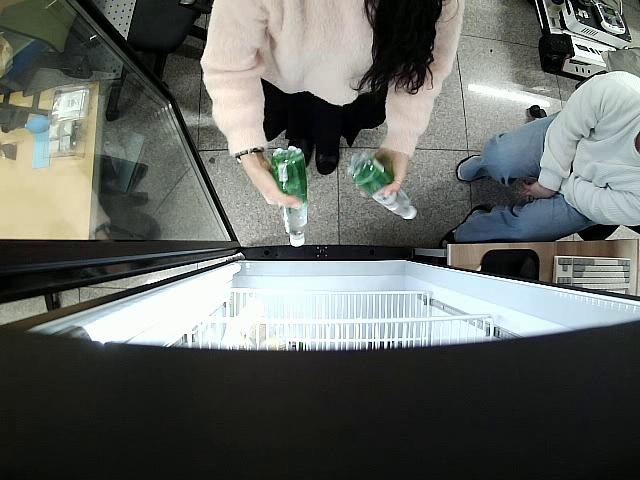00_hand: (249, 159, 305, 213), (359, 149, 408, 200)
18_trevi: (346, 152, 417, 221), (271, 146, 311, 249)
